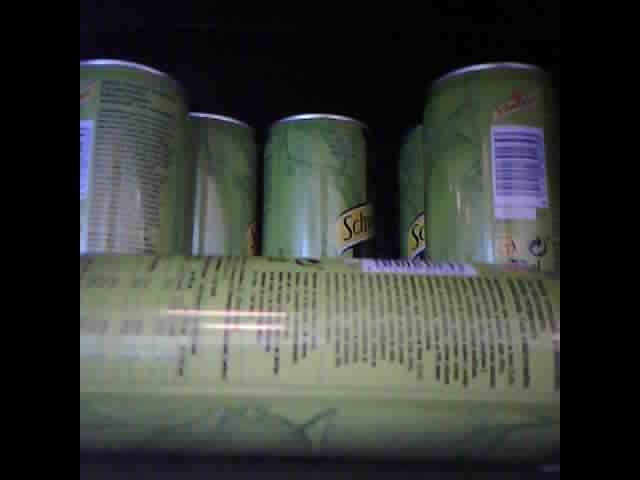schweppes: (80, 249, 561, 467), (423, 61, 557, 276), (81, 56, 189, 260), (265, 102, 374, 266), (190, 104, 261, 260), (387, 93, 430, 277)
